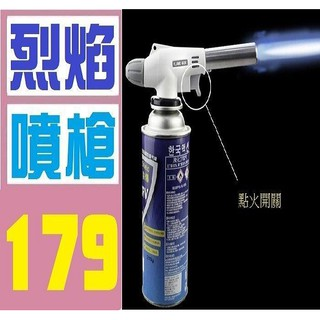gastorch: (124, 35, 263, 307)
